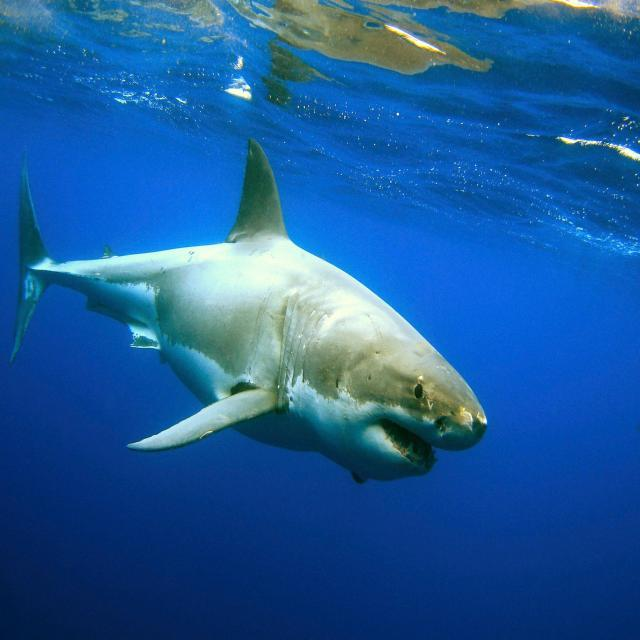Shark: (12, 49, 540, 535)
